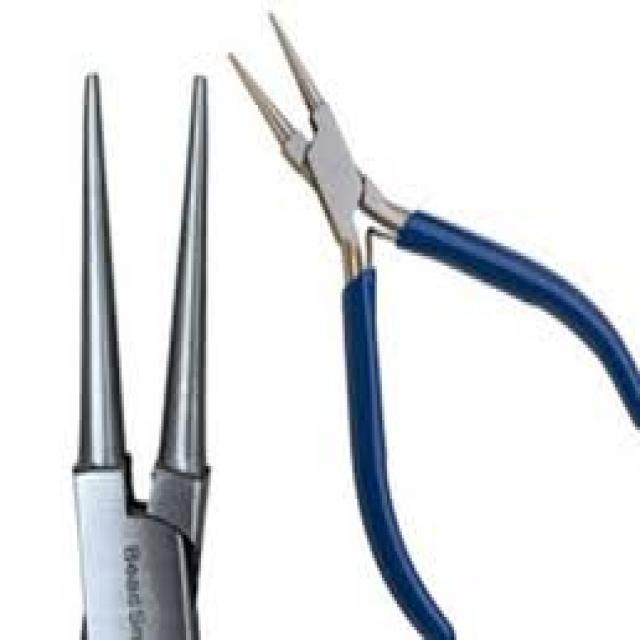pliers: (221, 0, 640, 640), (59, 57, 220, 640)
